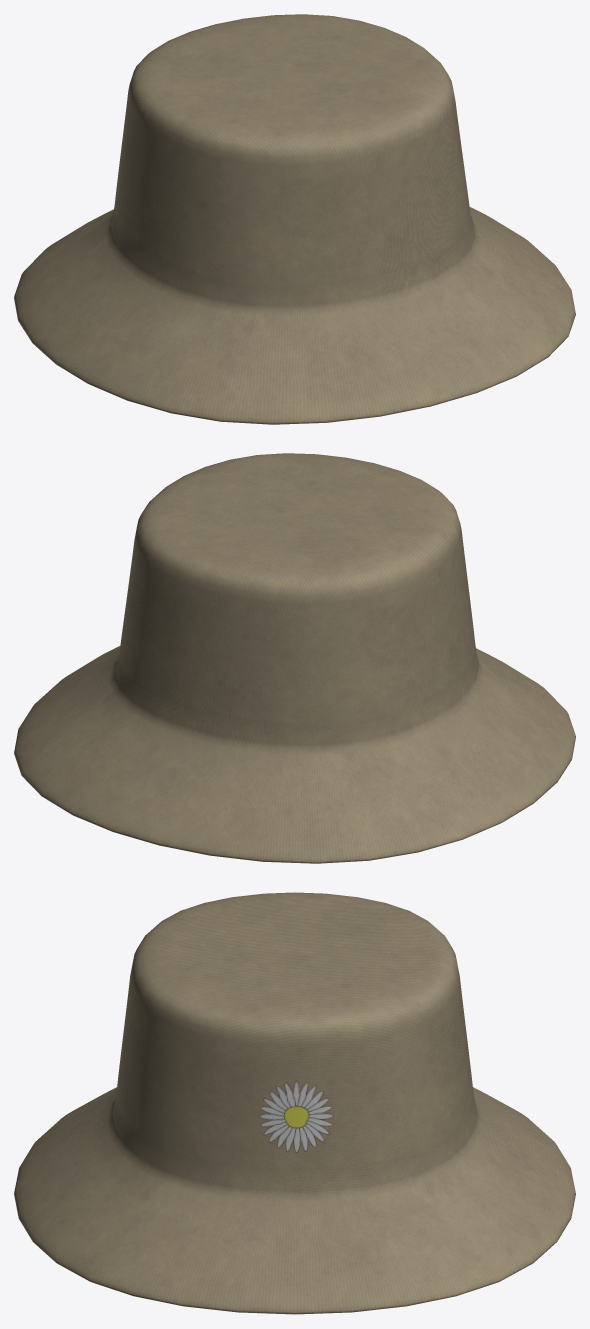
Rendered from Hat3.obj.
3 views of the same model, one above another, from view 1: azimuth 30°, elevation 25°; view 2: azimuth 150°, elevation 25°; view 3: azimuth 270°, elevation 25° (orthographic). The views are drawn at different scales.
Visible parts, largest first — view 1: Hat3_Hat1.001; view 2: Hat3_Hat1.001; view 3: Hat3_Hat1.001.
Part boxes in pixels (x1,y1,x2,y2): Hat3_Hat1.001: [14, 14, 575, 424]; Hat3_Hat1.001: [14, 453, 575, 863]; Hat3_Hat1.001: [14, 892, 575, 1314].
Size of the model in its own units: 3.17 by 1.5 by 3.13.
Materials: 1 (1 with a texture image).
